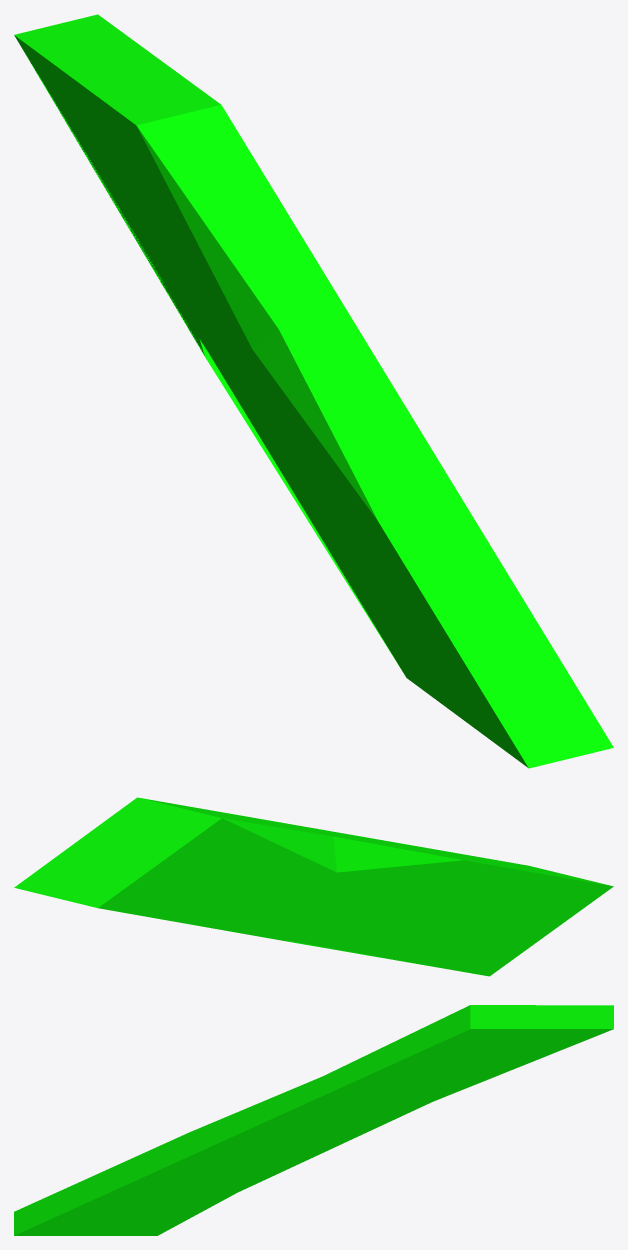
File: SM_Roof_Moderate_Truss_Wood_2x2m.fbx
The picture shows the model from 3 angles, top to bottom: view 1: azimuth 30°, elevation 25°; view 2: azimuth 150°, elevation 25°; view 3: azimuth 270°, elevation 25°; orthographic projection. The views are drawn at different scales.
Visible parts, largest first — view 1: roof-moderate-truss-wood-2x2m; view 2: roof-moderate-truss-wood-2x2m; view 3: roof-moderate-truss-wood-2x2m.
Boxes of the visible parts, left/top/right/bottom form: roof-moderate-truss-wood-2x2m: left=14, top=14, right=613, bottom=768; roof-moderate-truss-wood-2x2m: left=14, top=797, right=613, bottom=976; roof-moderate-truss-wood-2x2m: left=14, top=1005, right=613, bottom=1235.
Size of the model in its own units: 0.2614 by 1 by 2.63.
